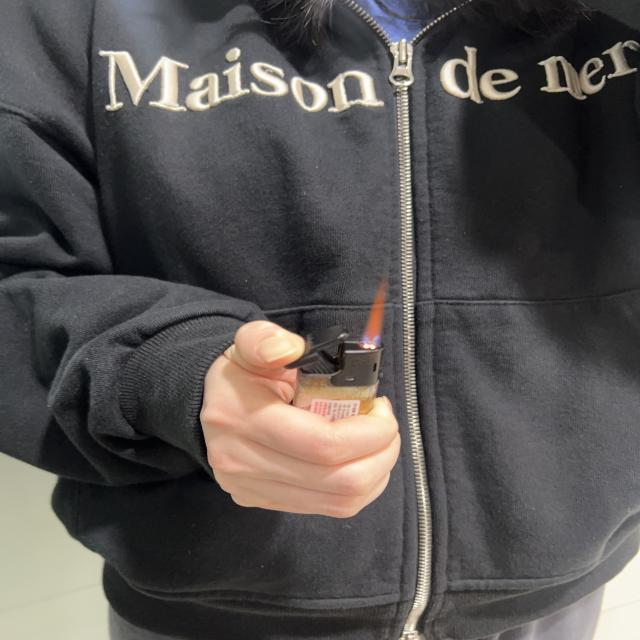fire: (364, 276, 392, 342)
